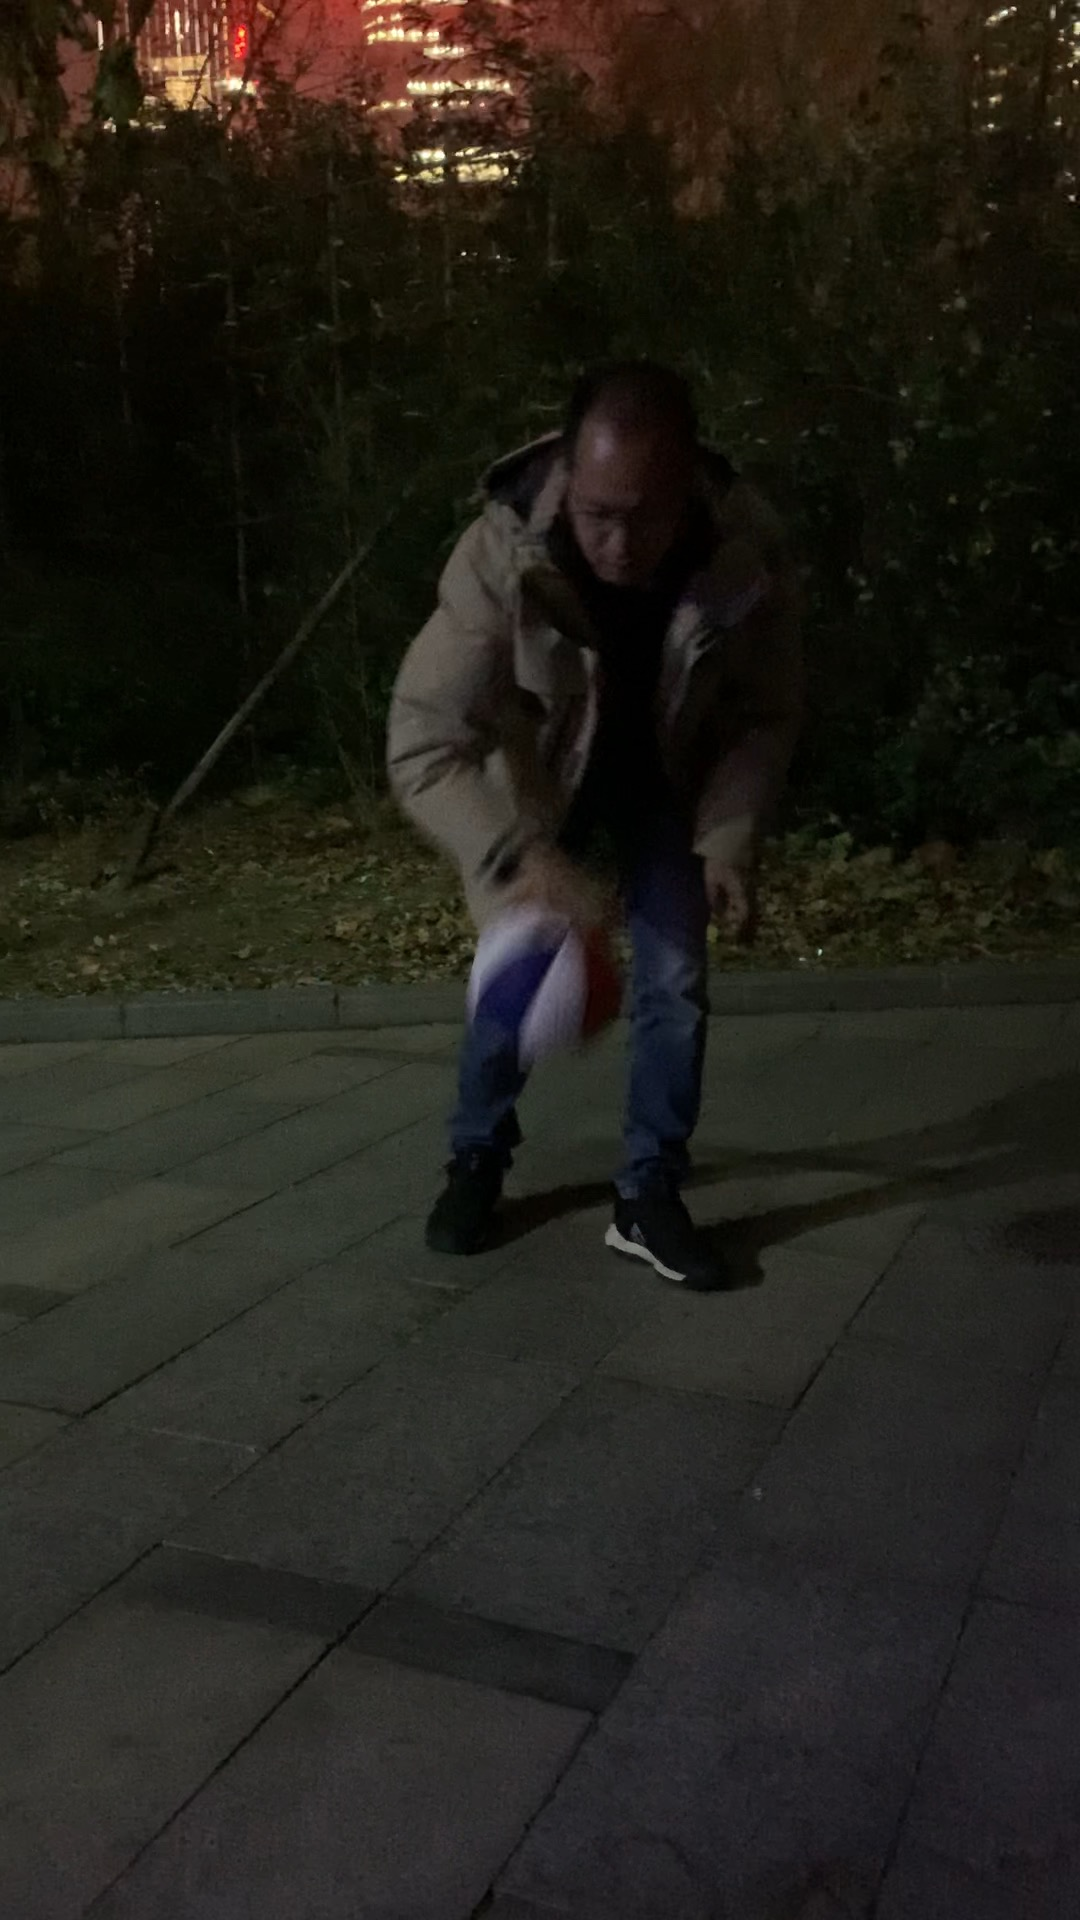ball: (462, 899, 626, 1062)
